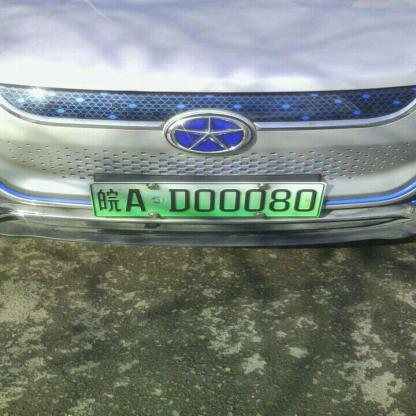lp: (89, 182, 324, 216)
